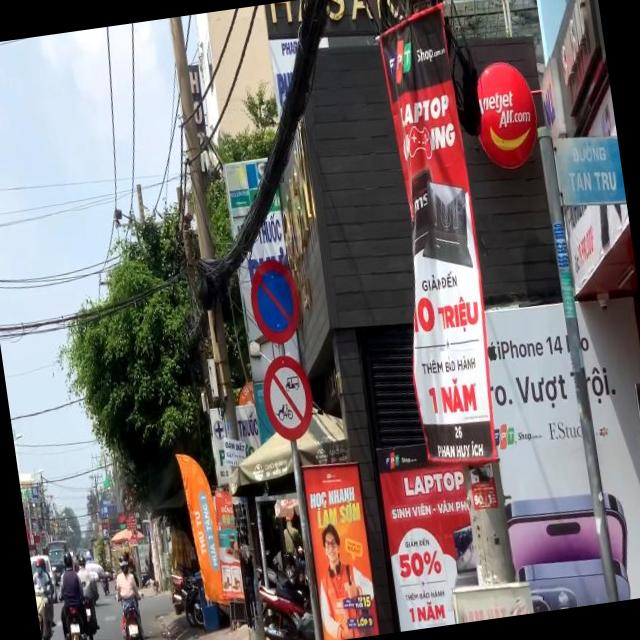P-131a: (247, 255, 303, 346)
